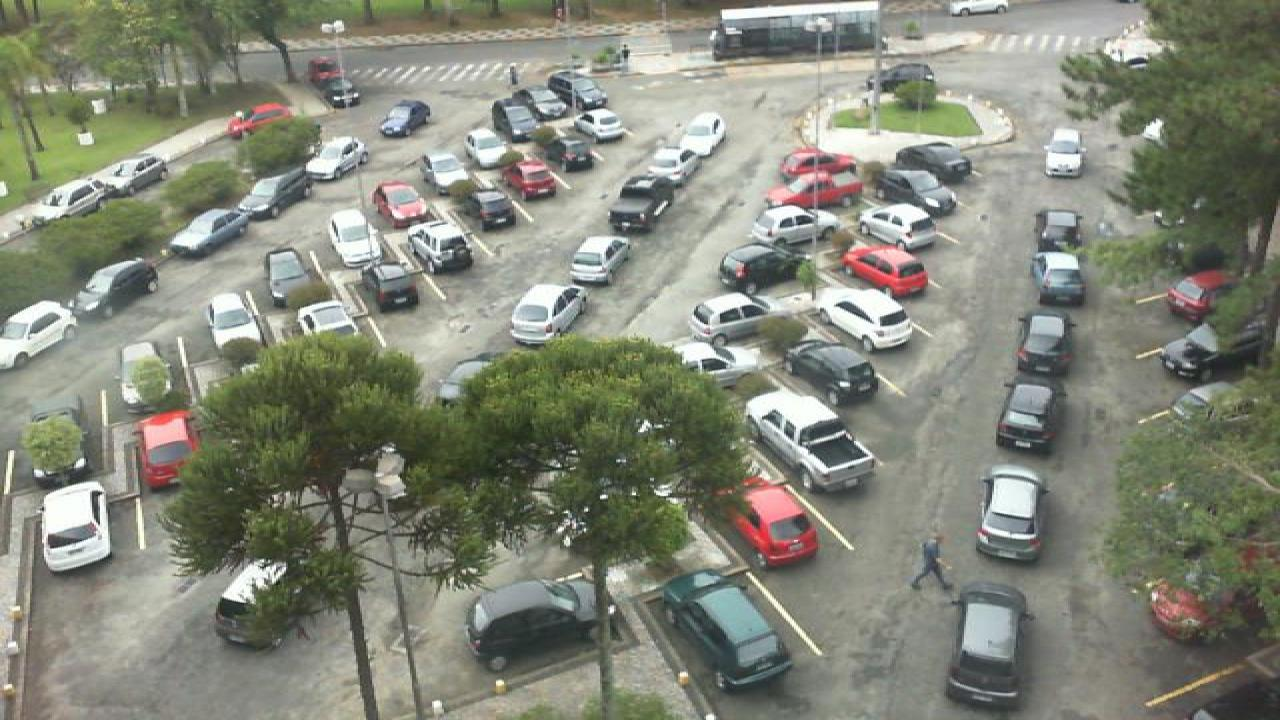Car: (660, 569, 794, 691), (744, 389, 880, 493), (464, 578, 606, 668), (942, 582, 1036, 706), (720, 475, 820, 568), (972, 464, 1048, 564), (36, 481, 114, 572), (212, 574, 298, 652), (790, 338, 884, 409), (816, 285, 916, 351), (20, 397, 90, 489), (0, 300, 78, 373), (1144, 575, 1224, 646), (72, 256, 160, 318), (994, 382, 1064, 456), (688, 292, 780, 347), (508, 284, 588, 346), (1158, 320, 1238, 382), (840, 244, 930, 297), (166, 207, 252, 261), (138, 411, 200, 485), (674, 341, 762, 391), (116, 350, 184, 414), (874, 169, 960, 219), (860, 201, 942, 253), (762, 169, 868, 209), (1014, 310, 1076, 378), (750, 204, 840, 250), (718, 242, 802, 290), (1166, 380, 1246, 429), (1164, 269, 1236, 323), (258, 248, 318, 310), (408, 220, 474, 276), (206, 292, 264, 354), (894, 142, 978, 184), (434, 351, 498, 406), (608, 182, 672, 236), (570, 234, 634, 286), (1032, 250, 1088, 307), (362, 263, 422, 314), (38, 176, 106, 221), (98, 153, 168, 196), (304, 135, 368, 182), (456, 174, 516, 224), (776, 147, 860, 181), (296, 300, 358, 344), (372, 181, 426, 231), (326, 209, 380, 258), (548, 70, 608, 112), (422, 150, 476, 194), (504, 158, 558, 202), (1044, 127, 1088, 180), (1034, 208, 1084, 254), (332, 253, 380, 297), (866, 63, 938, 92), (376, 100, 430, 138), (644, 144, 696, 183), (466, 125, 512, 169), (678, 112, 726, 154), (544, 135, 598, 172), (492, 102, 540, 143), (530, 98, 580, 136), (576, 106, 626, 143), (510, 77, 562, 112)
